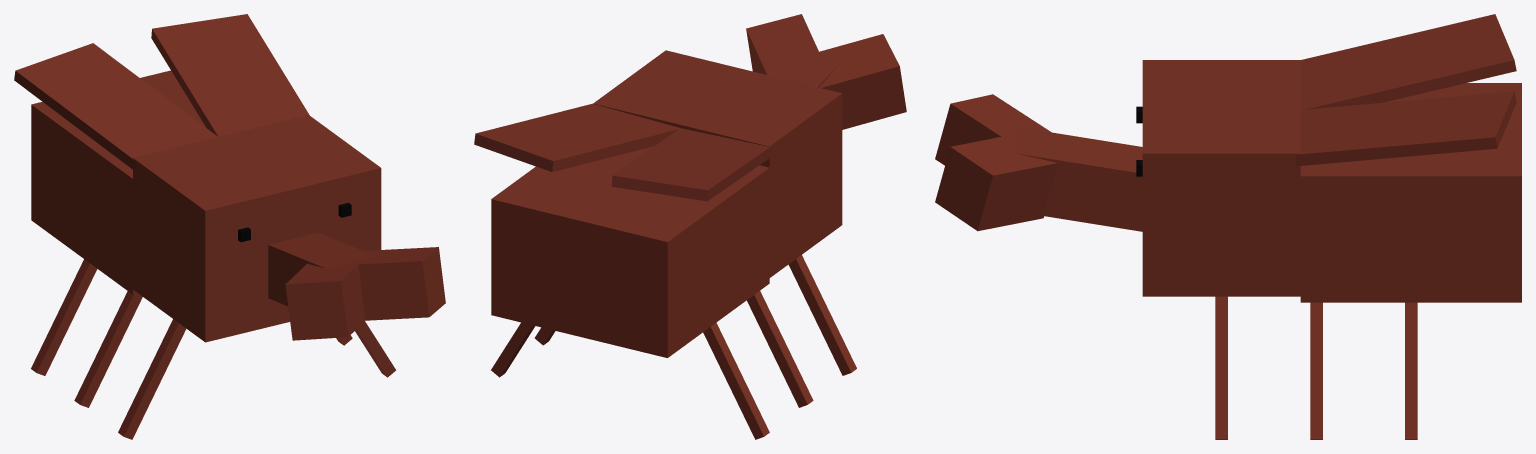
The model's file is CowardiceBeetle.fbx.
3 views of the same model, side by side, from view 1: azimuth 30°, elevation 25°; view 2: azimuth 150°, elevation 25°; view 3: azimuth 270°, elevation 25° (orthographic). The views are drawn at different scales.
Visible parts, largest first — view 1: Cube.002; view 2: Cube.002; view 3: Cube.002.
Part boxes in pixels (x1,y1,x2,y2): Cube.002: (14,14,445,439); Cube.002: (474,14,906,439); Cube.002: (935,14,1521,439).
Bounding box in the file's own units: 108 × 104 × 186.
